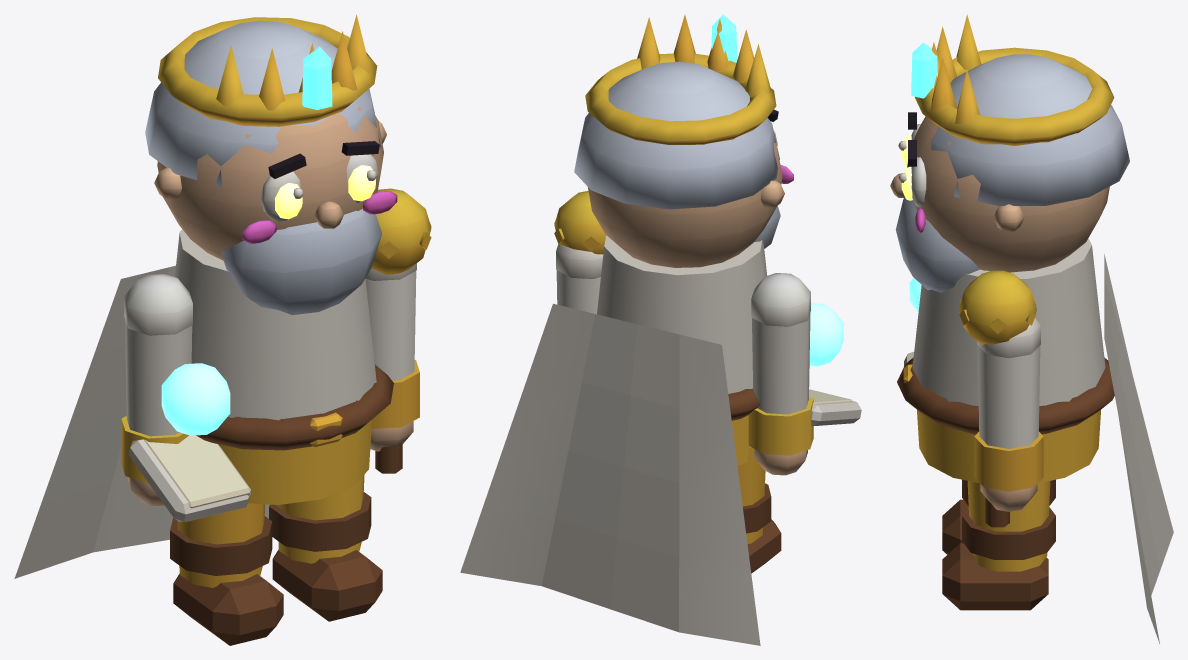
Rendered from hero_baldur.glb.
3 renders of one model, left to right at view 1: azimuth 30°, elevation 25°; view 2: azimuth 150°, elevation 25°; view 3: azimuth 270°, elevation 25°, orthographic. The views are drawn at different scales.
Visible parts, largest first — view 1: body_t0_palette, arml_t0_palette, legl_t0_palette, armr_t0_palette, legr_t0_palette, arml_t0_rune, body_t0_crystal, body_t0_glow_gold; view 2: body_t0_palette, arml_t0_palette, armr_t0_palette, legl_t0_palette, arml_t0_rune, body_t0_crystal; view 3: body_t0_palette, armr_t0_palette, legr_t0_palette, legl_t0_palette, body_t0_crystal, body_t0_glow_gold.
Part boxes in pixels (left/top/right/bottom): body_t0_palette: left=14, top=14, right=397, bottom=578; arml_t0_palette: left=121, top=274, right=250, bottom=521; legl_t0_palette: left=170, top=503, right=283, bottom=645; armr_t0_palette: left=365, top=188, right=431, bottom=473; legr_t0_palette: left=269, top=474, right=382, bottom=621; arml_t0_rune: left=161, top=363, right=230, bottom=435; body_t0_crystal: left=302, top=46, right=332, bottom=109; body_t0_glow_gold: left=275, top=165, right=375, bottom=219; body_t0_palette: left=460, top=14, right=793, bottom=645; arml_t0_palette: left=748, top=273, right=861, bottom=475; armr_t0_palette: left=554, top=191, right=606, bottom=314; legl_t0_palette: left=737, top=446, right=781, bottom=573; arml_t0_rune: left=809, top=303, right=843, bottom=366; body_t0_crystal: left=711, top=14, right=737, bottom=62; body_t0_palette: left=890, top=14, right=1173, bottom=643; armr_t0_palette: left=958, top=270, right=1043, bottom=527; legr_t0_palette: left=942, top=481, right=1055, bottom=610; legl_t0_palette: left=942, top=479, right=1055, bottom=554; body_t0_crystal: left=911, top=42, right=937, bottom=98; body_t0_glow_gold: left=901, top=134, right=912, bottom=200.
Bounding box in the file's own units: 0.32 × 0.53 × 0.253.
